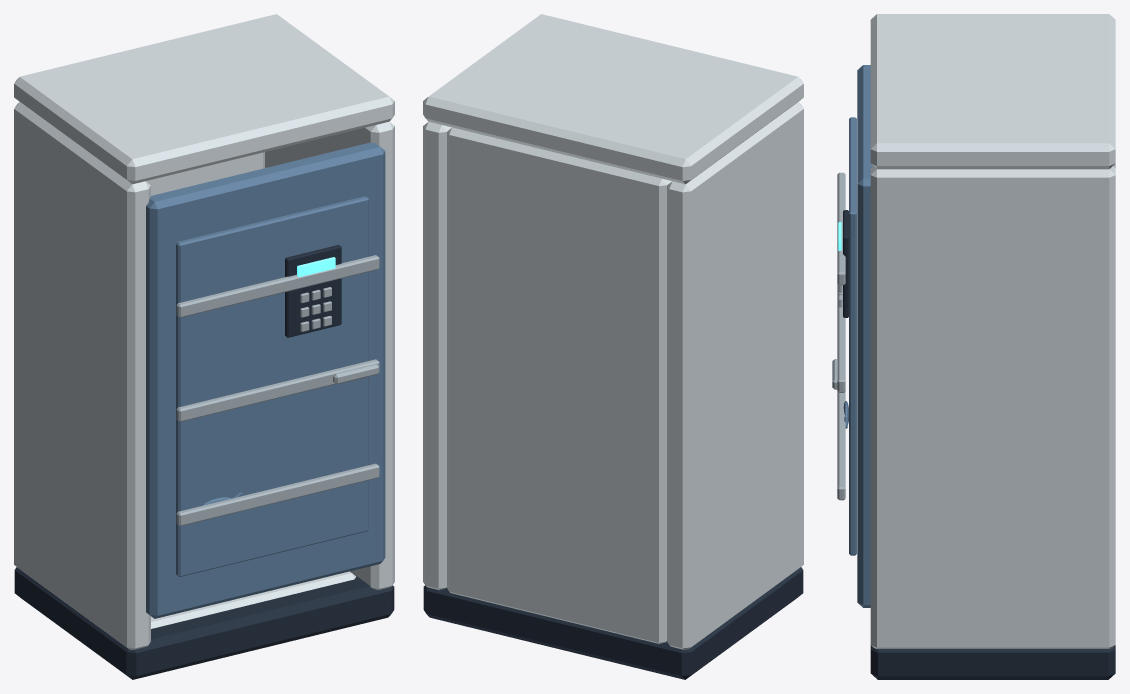
The model's file is safes_05.glb.
3 views of the same model, side by side, from view 1: azimuth 30°, elevation 25°; view 2: azimuth 150°, elevation 25°; view 3: azimuth 270°, elevation 25° (orthographic). The views are drawn at different scales.
Visible parts, largest first — view 1: Side (×2), InsetPanel, Top, DoorPanel, Base, Reinforcement (×3), KeypadPanel, Bottom, Back; view 2: Back, Side (×2), Top, Base; view 3: Side, Top, Base, DoorPanel, InsetPanel, Reinforcement (×3), KeypadPanel.
Boxes of the visible parts, left/top/right/bottom form: Side (×2): left=14, top=102, right=394, bottom=649; InsetPanel: left=176, top=196, right=368, bottom=576; Top: left=14, top=14, right=394, bottom=184; DoorPanel: left=146, top=142, right=385, bottom=618; Base: left=14, top=567, right=394, bottom=679; Reinforcement (×3): left=176, top=255, right=379, bottom=526; KeypadPanel: left=285, top=245, right=341, bottom=337; Bottom: left=151, top=571, right=356, bottom=628; Back: left=146, top=152, right=264, bottom=195; Back: left=447, top=127, right=671, bottom=643; Side (×2): left=423, top=102, right=803, bottom=649; Top: left=423, top=14, right=803, bottom=184; Base: left=423, top=567, right=803, bottom=679; Side: left=870, top=166, right=1115, bottom=649; Top: left=870, top=14, right=1115, bottom=169; Base: left=870, top=645, right=1115, bottom=679; DoorPanel: left=857, top=65, right=872, bottom=607; InsetPanel: left=849, top=117, right=856, bottom=555; Reinforcement (×3): left=837, top=172, right=845, bottom=500; KeypadPanel: left=843, top=210, right=848, bottom=317.
Bounding box in the file's own units: 0.78 × 1.45 × 0.694.
